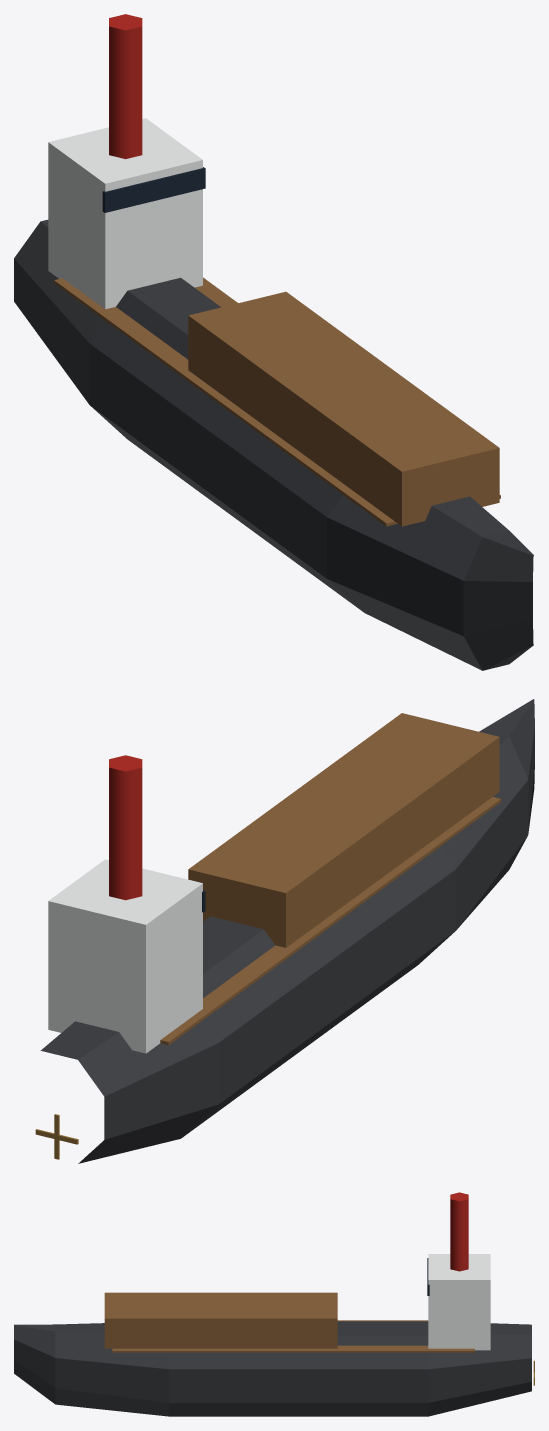
File: veh_naval_merchant_a05.glb
3 views of the same model, one above another, from view 1: azimuth 30°, elevation 25°; view 2: azimuth 150°, elevation 25°; view 3: azimuth 270°, elevation 25° (orthographic). The views are drawn at different scales.
Parts seen in each view (by area): view 1: body; view 2: body; view 3: body.
Part boxes in pixels (bbox=[...]): body: bbox=[14, 14, 533, 670]; body: bbox=[40, 699, 534, 1163]; body: bbox=[14, 1192, 531, 1416].
Size of what is drawn, in the model's own units: 3.46 by 9.96 by 22.13.
